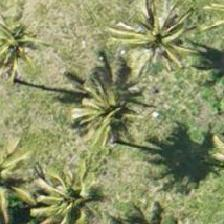coconut_tree: (53, 66, 143, 156), (112, 0, 202, 80), (17, 151, 107, 223), (0, 0, 52, 72)
